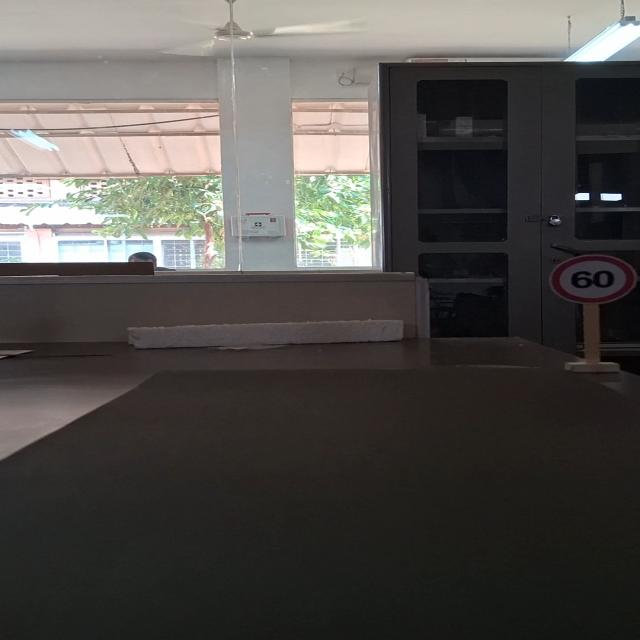Speed60: (546, 250, 640, 305)
